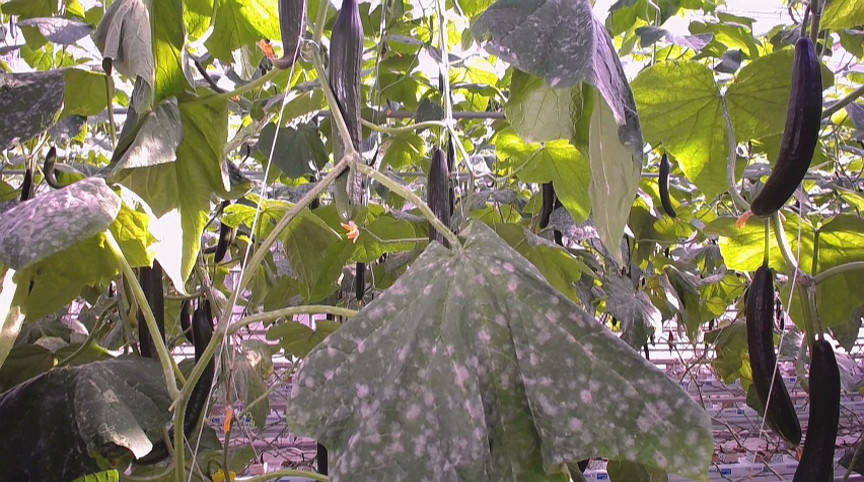cucumber: (750, 35, 827, 217), (743, 267, 802, 444), (330, 1, 366, 223), (792, 339, 842, 480), (138, 263, 164, 360), (271, 1, 305, 72), (429, 150, 451, 249), (658, 155, 679, 217)
